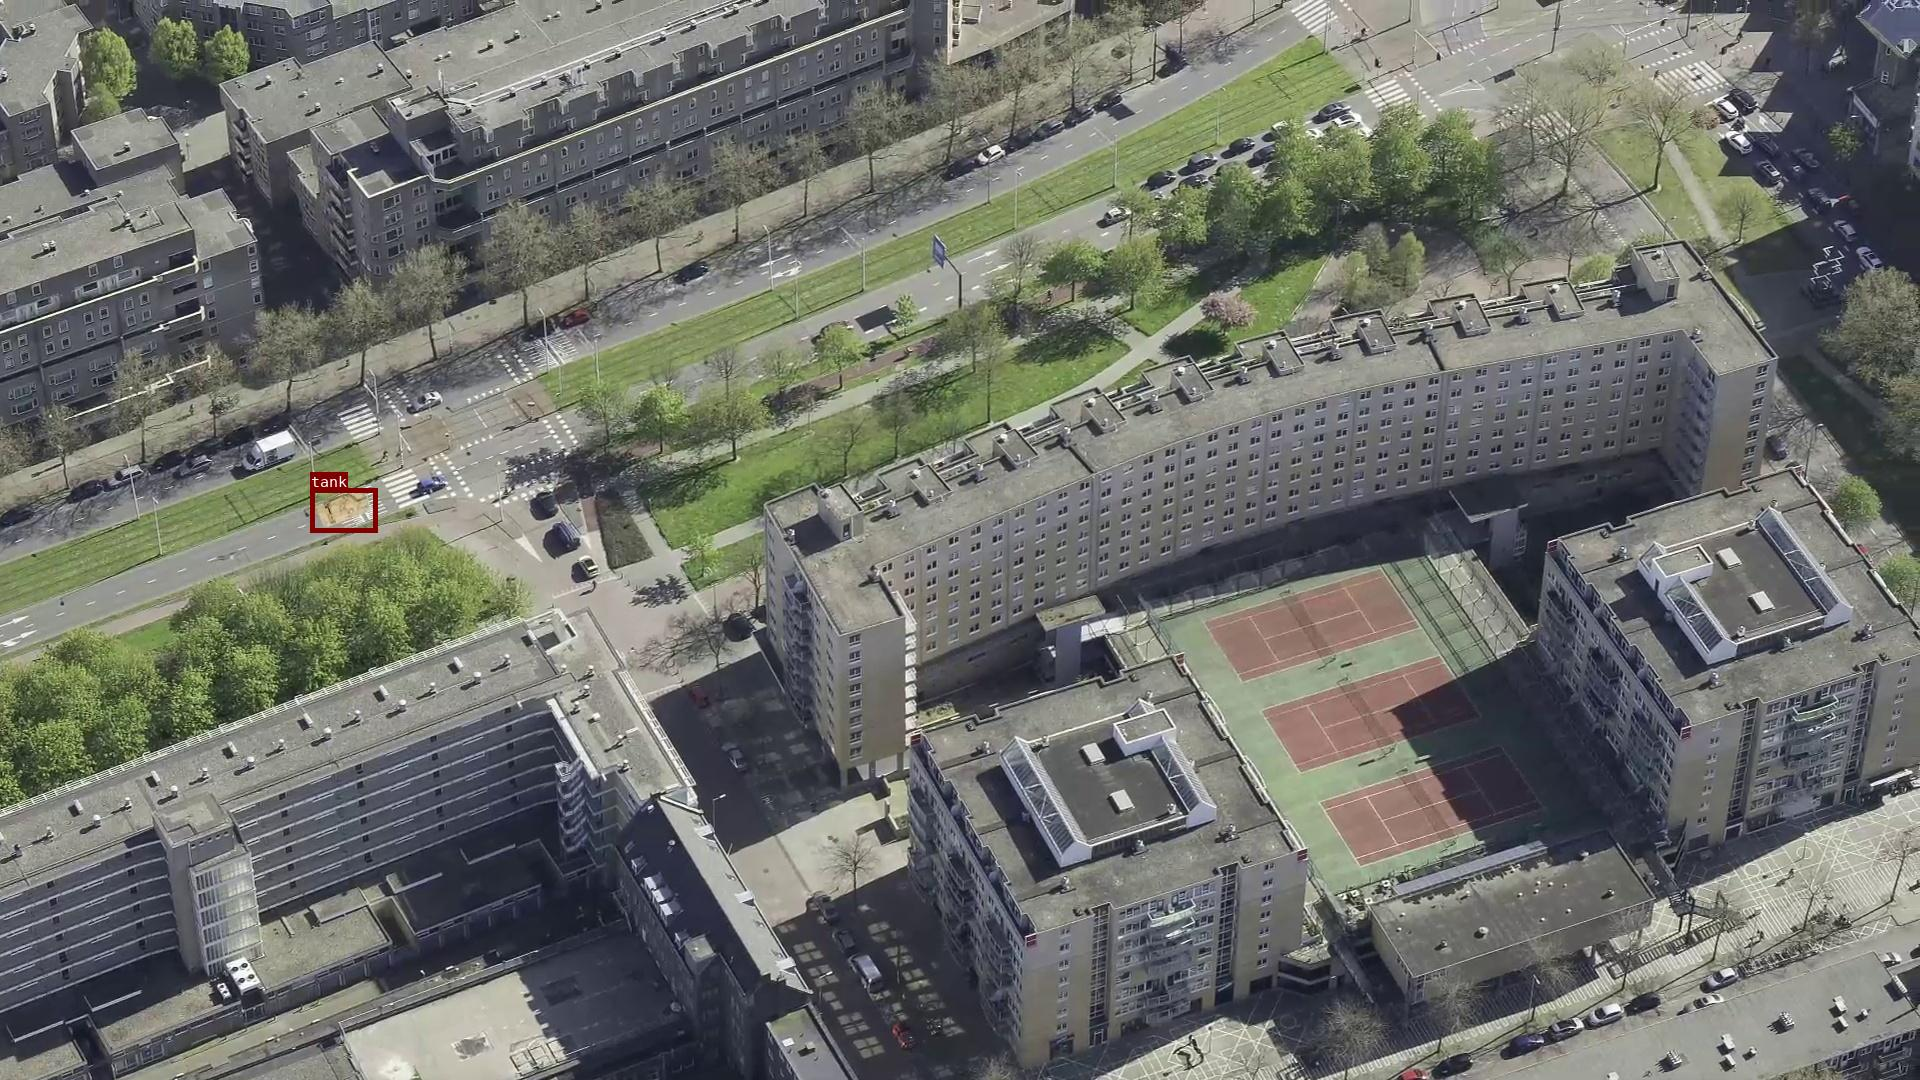tank: (310, 488, 377, 531)
